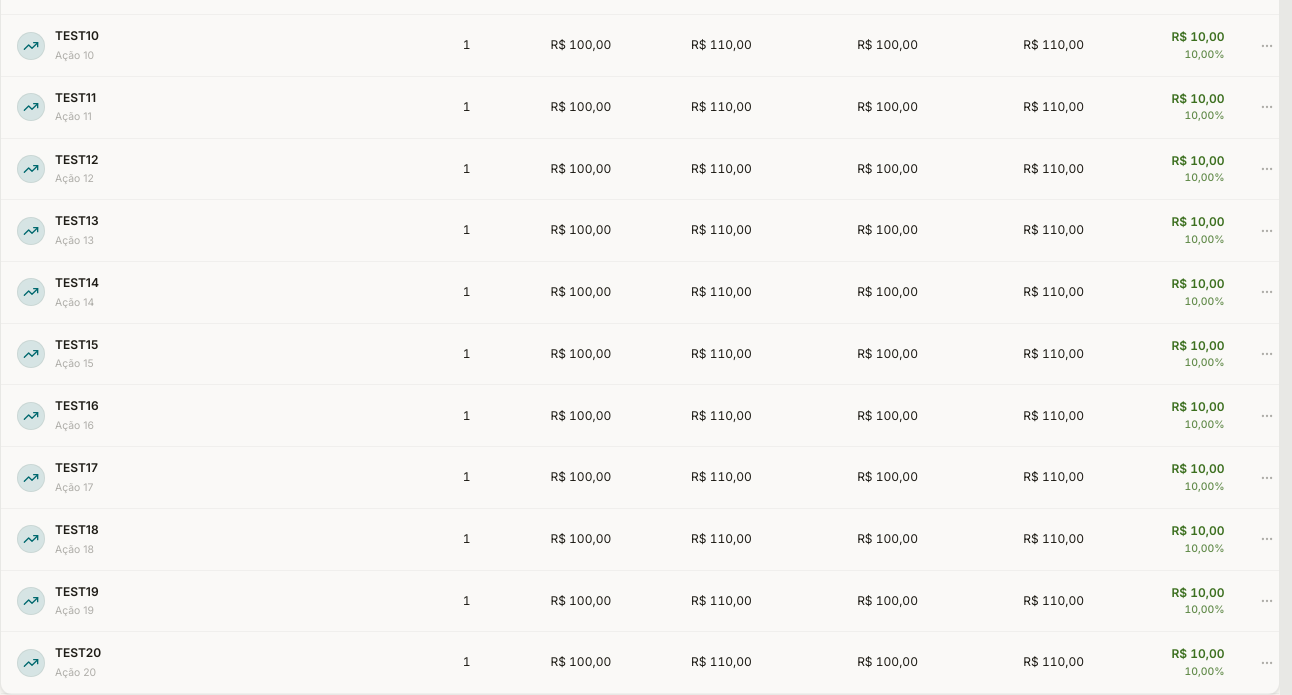
it: PositionTable › renderiza o dropdown fora da tabela com muitas linhas
(page scrolled)
Click the button named "Opções" in the row of "TEST20".
click(1266, 663)  # box top-left (1253, 649), bottom-right (1280, 677)
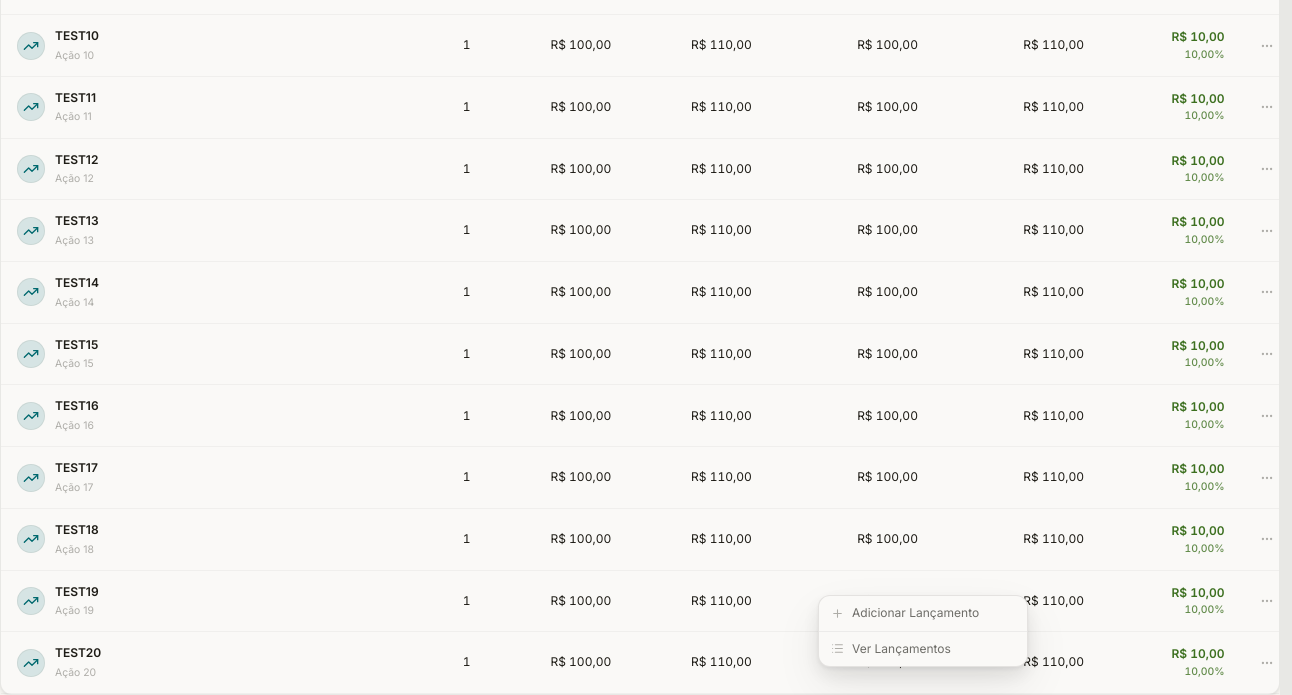
Expected: the number of menu items is 2, top-left (819, 596), bottom-right (1027, 632); top-left (819, 632), bottom-right (1027, 666)
